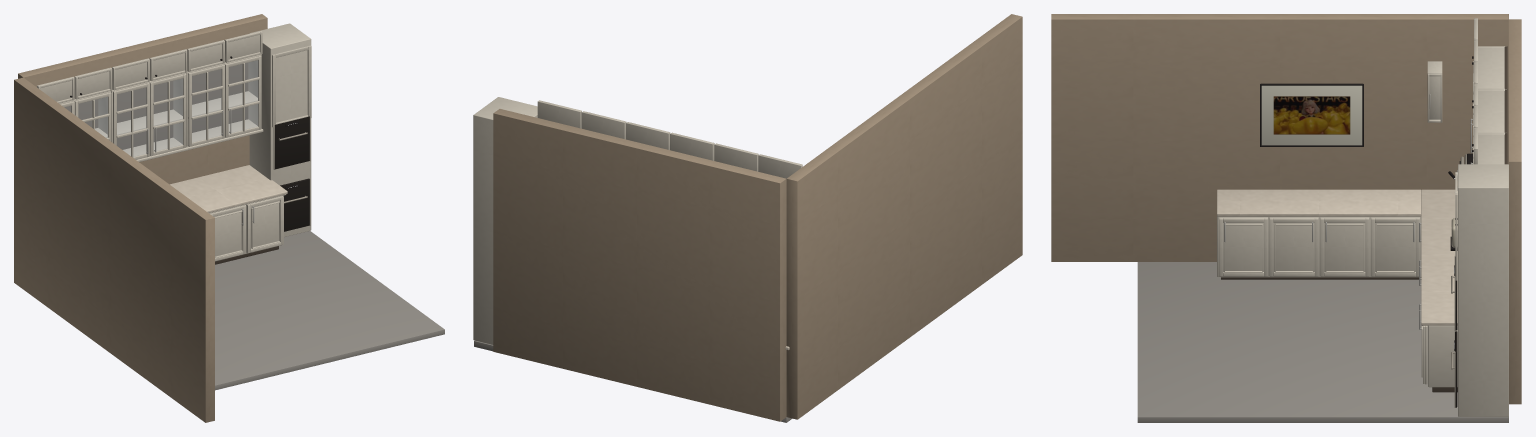
File: Xingtong_Kitchen_Textured.glb
The picture shows the model from 3 angles, left to right: view 1: azimuth 30°, elevation 25°; view 2: azimuth 150°, elevation 25°; view 3: azimuth 270°, elevation 25°; orthographic projection. The views are drawn at different scales.
Visible parts, largest first — view 1: Return visible wall, Neutral floor for scale inspection inferred, Main visible backsplash and wall, Edge tall appliance housing, Main stone countertop, Upper pair 2 back, Upper pair 1 back, Glass pane 2 -1, Glass pane 1 1, Glass pane 2 1, Glass pane 1 -1, Edge inset oven black front.001 (+16 smaller); view 2: Main visible backsplash and wall, Return visible wall, Edge tall appliance housing, Top shallow closed continuation door.004, Top shallow closed continuation door.005, Top shallow closed continuation door.002, Top shallow closed continuation door.003, Top shallow closed continuation door.001, Top shallow closed continuation door; view 3: Return visible wall, Neutral floor for scale inspection inferred, Edge tall appliance housing, Return stone countertop, Main visible backsplash and wall, Main stone countertop, Return picture white matboard, Observed individual framed print plane, Return door inset 01, Return door inset 02, Return door inset 03, Return door inset 00 (+7 smaller).
Part boxes in pixels (bbox=[...]): Return visible wall: bbox=[14, 77, 214, 422]; Neutral floor for scale inspection inferred: bbox=[215, 231, 444, 390]; Main visible backsplash and wall: bbox=[18, 14, 267, 184]; Edge tall appliance housing: bbox=[249, 23, 311, 236]; Main stone countertop: bbox=[170, 165, 287, 212]; Upper pair 2 back: bbox=[192, 62, 248, 132]; Upper pair 1 back: bbox=[117, 81, 173, 149]; Glass pane 2 -1: bbox=[192, 69, 221, 142]; Glass pane 1 1: bbox=[154, 79, 182, 151]; Glass pane 2 1: bbox=[229, 60, 257, 133]; Glass pane 1 -1: bbox=[117, 87, 146, 156]; Edge inset oven black front.001: bbox=[275, 116, 309, 169]; Main visible backsplash and wall: bbox=[493, 109, 786, 421]; Return visible wall: bbox=[786, 14, 1022, 419]; Edge tall appliance housing: bbox=[473, 97, 537, 344]; Top shallow closed continuation door.004: bbox=[581, 111, 625, 139]; Top shallow closed continuation door.005: bbox=[537, 101, 581, 128]; Top shallow closed continuation door.002: bbox=[670, 133, 713, 160]; Top shallow closed continuation door.003: bbox=[626, 122, 669, 149]; Top shallow closed continuation door.001: bbox=[714, 144, 757, 171]; Top shallow closed continuation door: bbox=[758, 154, 802, 178]; Return visible wall: bbox=[1051, 14, 1508, 261]; Neutral floor for scale inspection inferred: bbox=[1137, 262, 1508, 422]; Edge tall appliance housing: bbox=[1458, 164, 1508, 416]; Return stone countertop: bbox=[1217, 189, 1421, 216]; Main visible backsplash and wall: bbox=[1509, 19, 1521, 404]; Main stone countertop: bbox=[1421, 189, 1457, 325]; Return picture white matboard: bbox=[1261, 85, 1362, 145]; Observed individual framed print plane: bbox=[1273, 96, 1350, 134]; Return door inset 01: bbox=[1320, 217, 1369, 275]; Return door inset 02: bbox=[1269, 217, 1318, 275]; Return door inset 03: bbox=[1219, 217, 1267, 275]; Return door inset 00: bbox=[1371, 217, 1419, 275].
Size of the model in its own units: 4.41 by 3.2 by 5.45.
Materials: 17 (7 with a texture image).
